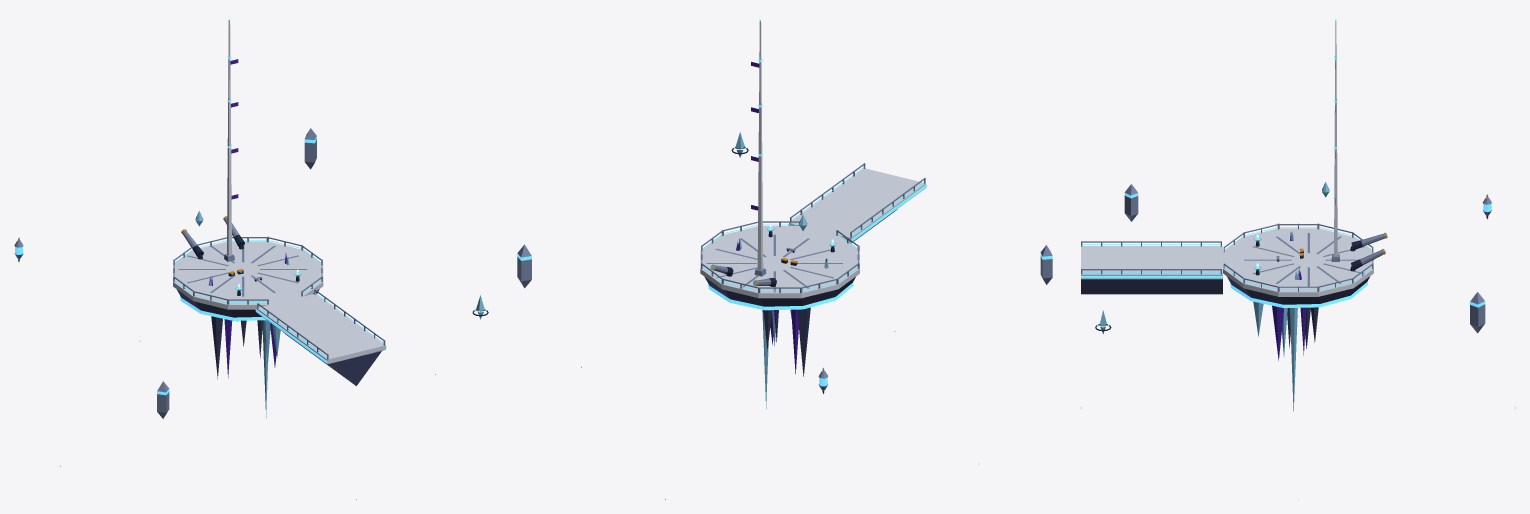
File: chunk_side_lookout.fbx
The picture shows the model from 3 angles, left to right: view 1: azimuth 30°, elevation 25°; view 2: azimuth 150°, elevation 25°; view 3: azimuth 270°, elevation 25°; orthographic projection. The views are drawn at different scales.
Parts seen in each view (by area): view 1: chunk_side_lookout; view 2: chunk_side_lookout; view 3: chunk_side_lookout.
Boxes of the visible parts, bbox=[...] form: chunk_side_lookout: bbox=[14, 14, 488, 499]; chunk_side_lookout: bbox=[517, 14, 1052, 499]; chunk_side_lookout: bbox=[1081, 14, 1515, 499].
Bounding box in the file's own units: 256 × 256 × 256.
